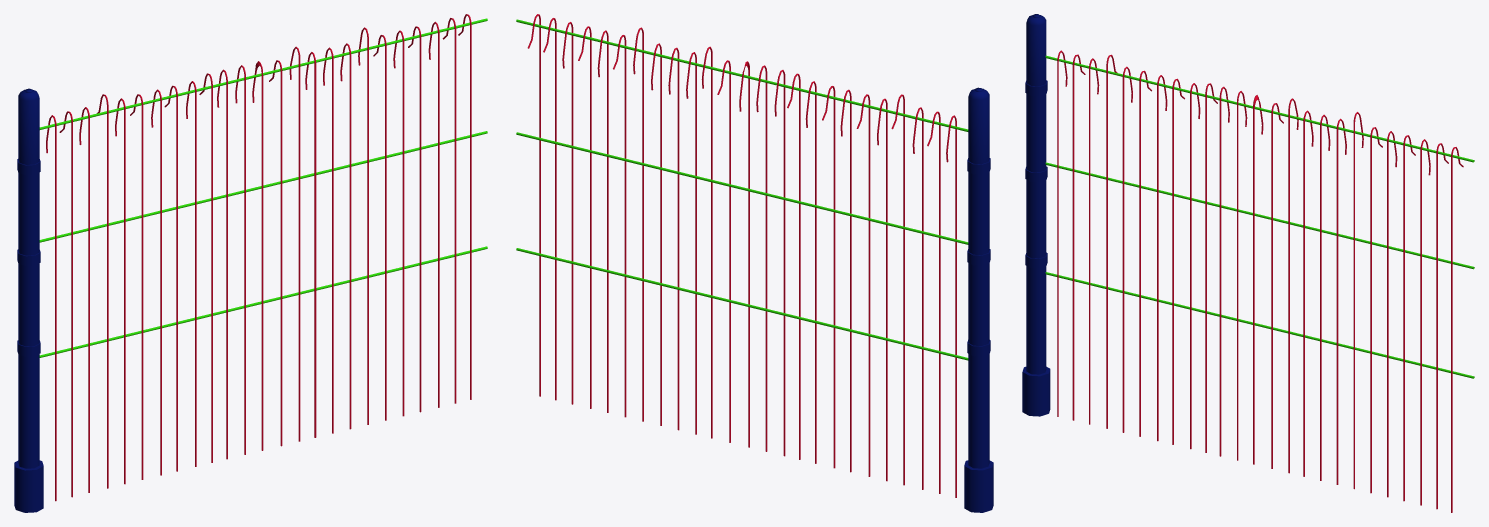
File: Fence1.FBX
3 renders of one model, left to right at view 1: azimuth 30°, elevation 25°; view 2: azimuth 150°, elevation 25°; view 3: azimuth 330°, elevation 25°, orthographic. The views are drawn at different scales.
Parts seen in each view (by area): view 1: Line028; view 2: Line028; view 3: Line028.
Part boxes in pixels (left/top/right/bottom): Line028: left=14, top=14, right=487, bottom=512; Line028: left=516, top=14, right=993, bottom=512; Line028: left=1022, top=14, right=1474, bottom=512.
Size of the model in its own units: 194 by 164 by 12.64.
